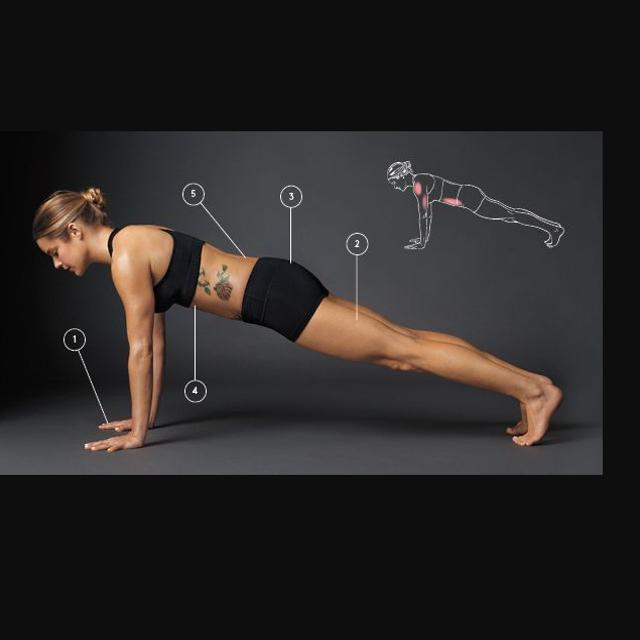Plank_Pose: (22, 172, 573, 456)
